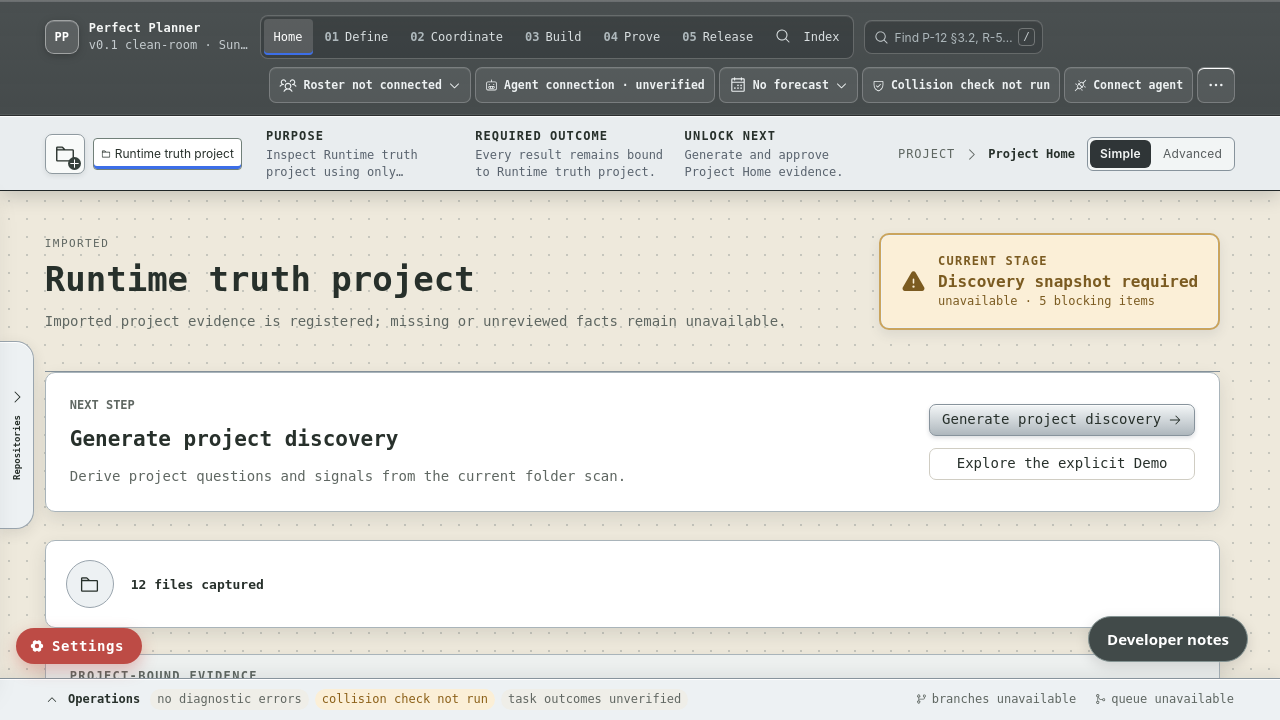
it: project-scoped Runtime & Connections surface › an allowed MCP context preference remains unavailable without a receipt
The width and height of the screenshot is (1280, 720).
Click the button named "More actions".
click(1216, 85)  # box top-left (1197, 67), bottom-right (1235, 103)
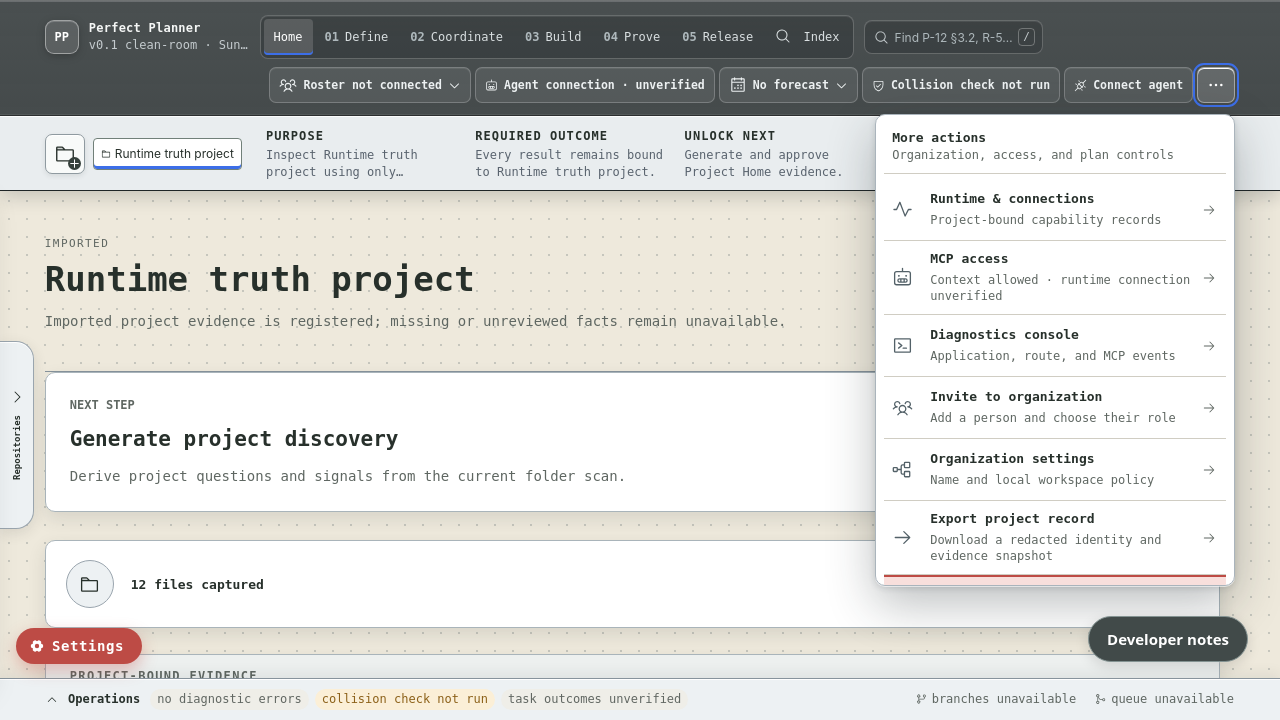
Click the button "Runtime & connections Project-bound capability records".
click(1055, 210)  # box top-left (884, 179), bottom-right (1226, 241)
(page scrolled)
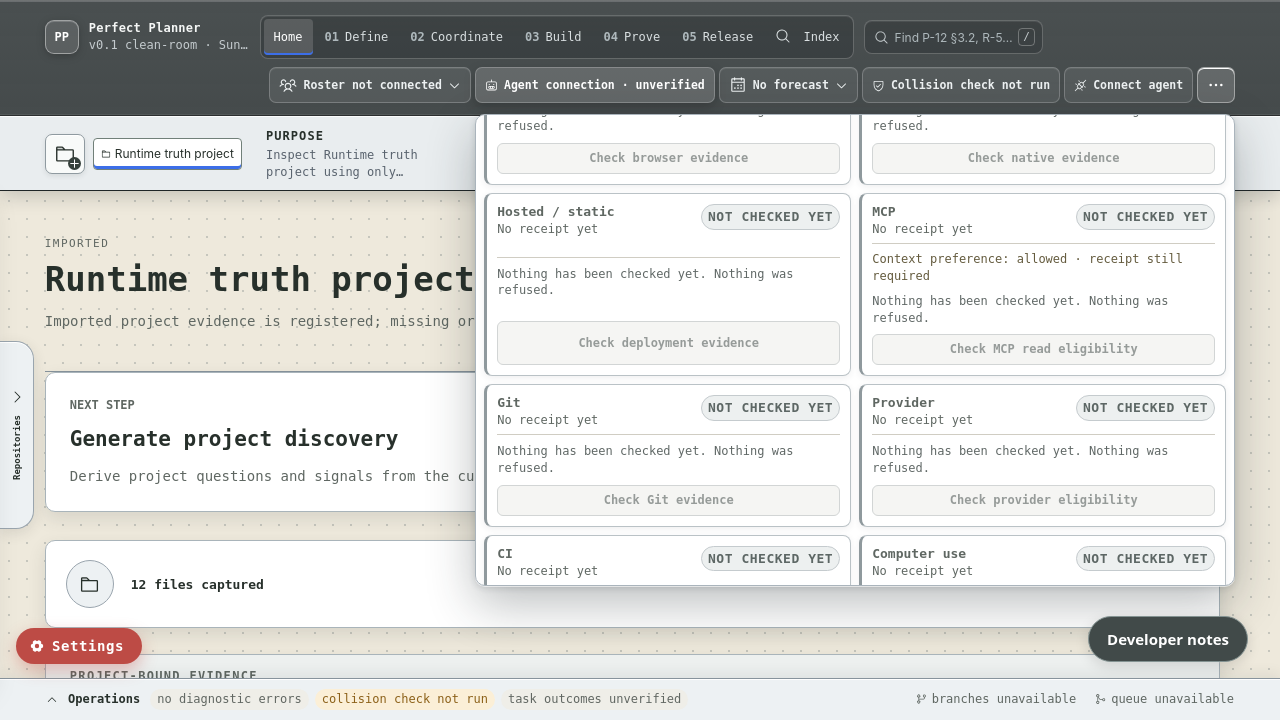
Result: the element named "MCP runtime capability" shows "Context preference: allowed · receipt still required" at top-left (859, 193), bottom-right (1226, 376)
Result: the element named "MCP runtime capability" shows "Not checked yet" at top-left (1083, 209), bottom-right (1208, 224)
Result: the button "Check MCP read eligibility" is disabled at top-left (872, 334), bottom-right (1215, 365)
